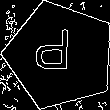P_S: (40, 30, 80, 82)
